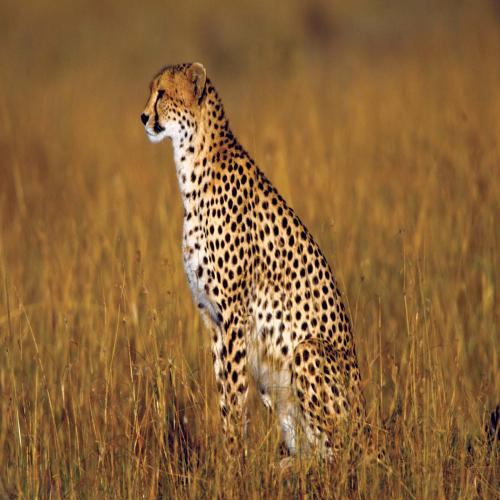cheetah-endangered: (141, 63, 369, 456)
